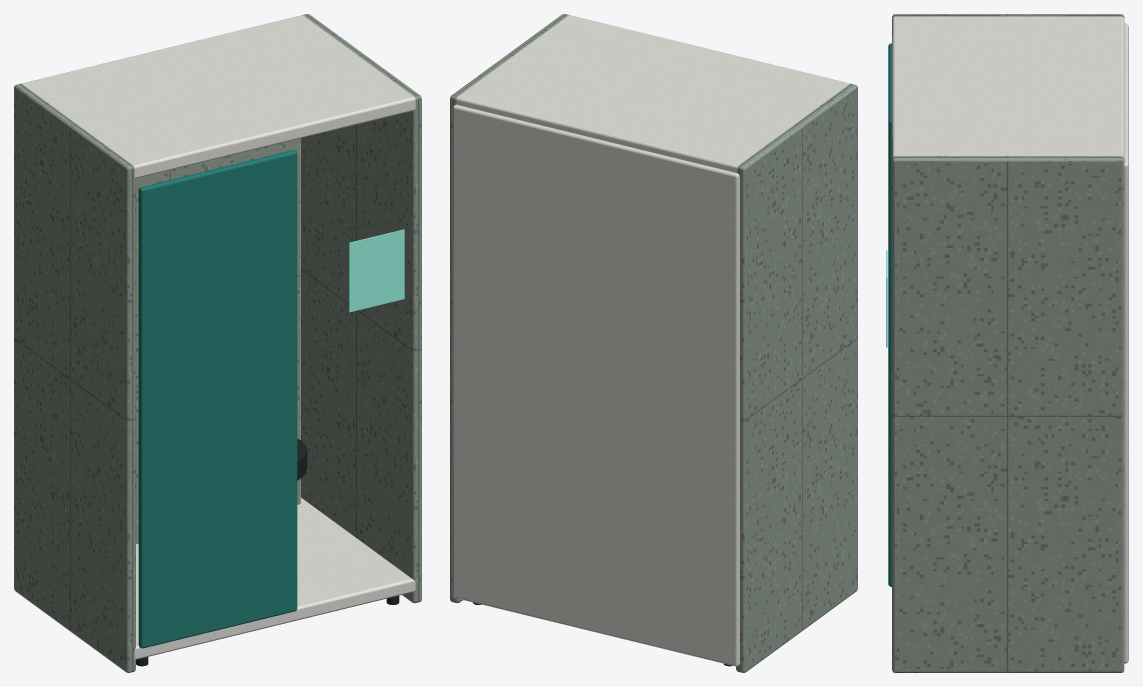
File: detail-photo-booth-1.glb
3 views of the same model, side by side, from view 1: azimuth 30°, elevation 25°; view 2: azimuth 150°, elevation 25°; view 3: azimuth 270°, elevation 25° (orthographic).
Visible parts, largest first — view 1: cabinet_side (×2), privacy_curtain, cabinet_cap (×2), photo_backdrop, label_photo_screen; view 2: cabinet_back, cabinet_side (×2), cabinet_cap; view 3: cabinet_side (×2), cabinet_cap, cabinet_back, privacy_curtain.
Part boxes in pixels (<box>): cabinet_side (×2): <box>14,14,421,672</box>; privacy_curtain: <box>138,150,297,648</box>; cabinet_cap (×2): <box>22,15,415,659</box>; photo_backdrop: <box>136,138,300,544</box>; label_photo_screen: <box>349,229,404,312</box>; cabinet_back: <box>452,104,739,666</box>; cabinet_side (×2): <box>450,14,857,672</box>; cabinet_cap: <box>456,15,849,172</box>; cabinet_side (×2): <box>892,14,1124,672</box>; cabinet_cap: <box>892,16,1124,157</box>; cabinet_back: <box>1124,23,1128,663</box>; privacy_curtain: <box>888,43,891,586</box>.
Size of the model in its own units: 1.35 by 2.2 by 0.9405.
6 materials, 5 textured.
